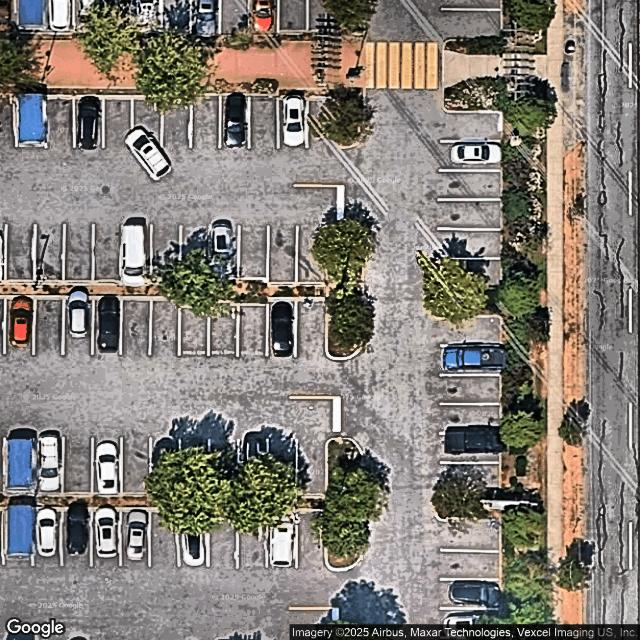car: (118, 222, 151, 289), (443, 422, 505, 457), (440, 342, 505, 373), (266, 512, 297, 569), (241, 432, 268, 495), (209, 219, 237, 278), (450, 579, 505, 608), (37, 432, 63, 492), (179, 511, 206, 567), (97, 295, 122, 354), (76, 93, 101, 151), (66, 288, 93, 340), (270, 300, 295, 356), (281, 95, 307, 148), (94, 441, 120, 494), (443, 610, 494, 637), (224, 92, 247, 149), (449, 142, 503, 166), (92, 508, 117, 559), (34, 507, 58, 558), (9, 295, 33, 345), (64, 506, 88, 556), (125, 510, 148, 561), (194, 1, 218, 40), (250, 0, 275, 35), (74, 0, 99, 33), (48, 0, 72, 34), (135, 0, 159, 33)
lot_boundary: (0, 0, 502, 639)
objects: (0, 438, 368, 571), (0, 236, 364, 359), (0, 38, 362, 90), (444, 41, 503, 111), (14, 87, 47, 148), (437, 287, 501, 317), (436, 493, 500, 522), (4, 432, 34, 492), (333, 92, 363, 147), (5, 508, 33, 560), (17, 0, 46, 32), (338, 0, 366, 32)
stall: (438, 170, 502, 200), (436, 433, 500, 463), (436, 463, 500, 493), (436, 550, 500, 580), (437, 579, 501, 609), (438, 200, 502, 230), (438, 229, 502, 259), (438, 258, 502, 288), (436, 316, 500, 346), (436, 345, 500, 375), (436, 375, 500, 405), (437, 610, 501, 640), (436, 404, 500, 433), (436, 521, 500, 550), (438, 142, 502, 171), (438, 9, 502, 38), (438, 113, 502, 142), (120, 224, 152, 281), (5, 226, 35, 282), (297, 225, 327, 281), (267, 225, 297, 281), (35, 225, 65, 281), (64, 225, 94, 281), (93, 224, 123, 280), (61, 299, 91, 355), (91, 299, 121, 355), (121, 300, 151, 356), (150, 300, 180, 356), (267, 300, 297, 356), (295, 300, 325, 356), (5, 298, 35, 354), (34, 298, 64, 354), (121, 437, 151, 493), (93, 437, 123, 493), (62, 436, 92, 492), (209, 438, 239, 494), (237, 438, 267, 494), (267, 439, 297, 495), (295, 439, 325, 495), (149, 509, 179, 565), (151, 438, 181, 494), (177, 438, 207, 494), (91, 509, 121, 565), (121, 509, 151, 565), (179, 510, 209, 566), (207, 512, 237, 568), (237, 510, 267, 566), (295, 510, 325, 566), (61, 508, 91, 564), (268, 512, 298, 568), (191, 96, 220, 149), (45, 96, 74, 149), (75, 96, 104, 149), (104, 97, 133, 150), (239, 225, 268, 278), (305, 97, 334, 150), (278, 97, 307, 150), (209, 306, 238, 359), (36, 436, 63, 492), (34, 508, 61, 564), (220, 97, 249, 149), (162, 98, 191, 150), (132, 97, 161, 149), (239, 305, 268, 357), (152, 224, 180, 277), (210, 226, 238, 279), (250, 96, 278, 148), (182, 225, 210, 277), (180, 307, 208, 359), (74, 0, 103, 32), (248, 0, 277, 32), (45, 0, 74, 32), (279, 0, 307, 32), (106, 0, 134, 32), (133, 0, 161, 32), (162, 0, 190, 32), (190, 2, 218, 34), (221, 0, 249, 32), (309, 1, 337, 31)
